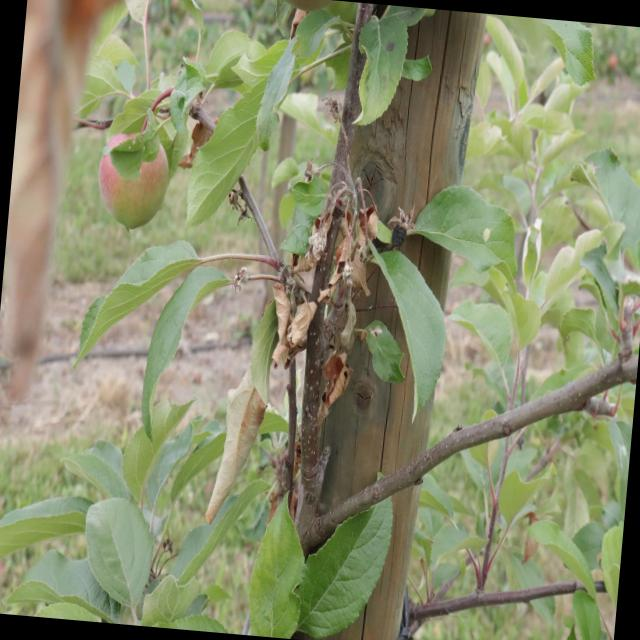-FireBlight-: (241, 170, 381, 424)
